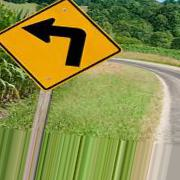left: (1, 1, 123, 90)
